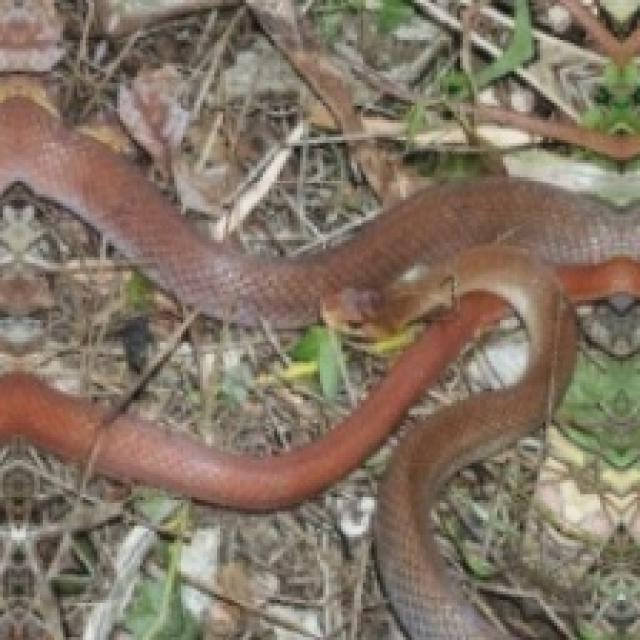reddish rat snake: (0, 104, 640, 640)
